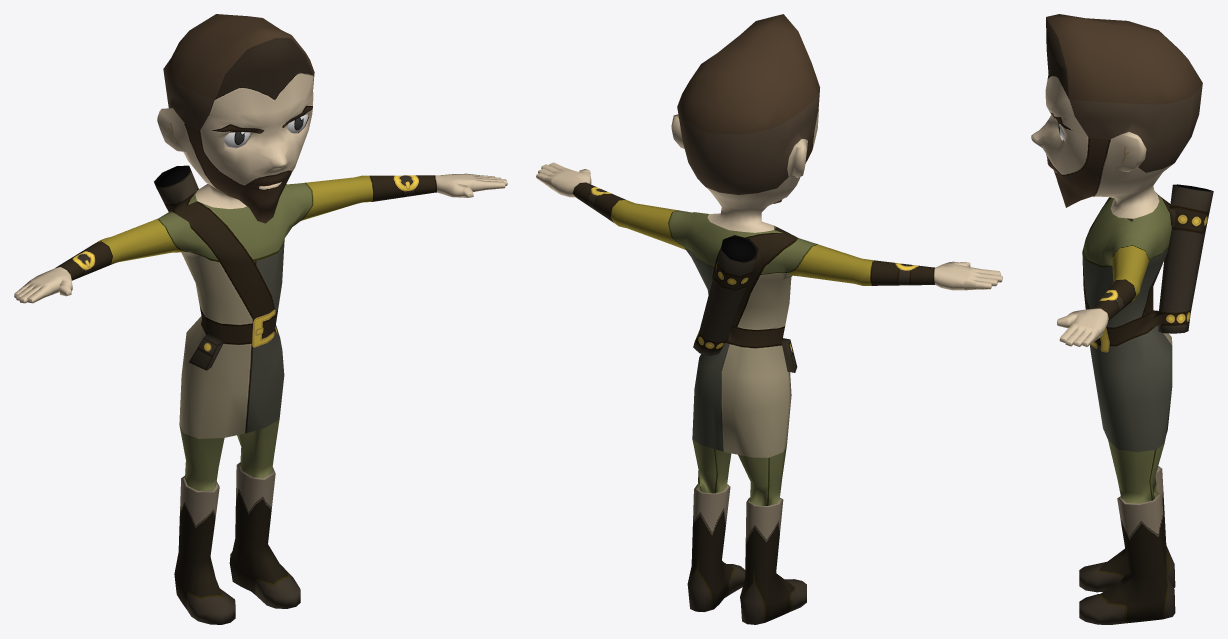
The model's file is Archer-no-weapon.fbx.
3 views of the same model, side by side, from view 1: azimuth 30°, elevation 25°; view 2: azimuth 150°, elevation 25°; view 3: azimuth 270°, elevation 25° (orthographic). The views are drawn at different scales.
Parts seen in each view (by area): view 1: Archer; view 2: Archer; view 3: Archer.
Boxes of the visible parts, bbox=[...] form: Archer: bbox=[14, 14, 507, 624]; Archer: bbox=[536, 14, 1002, 624]; Archer: bbox=[1031, 14, 1213, 624].
Size of the model in its own units: 2.38 by 0.7818 by 2.75.
1 material, 1 textured.
